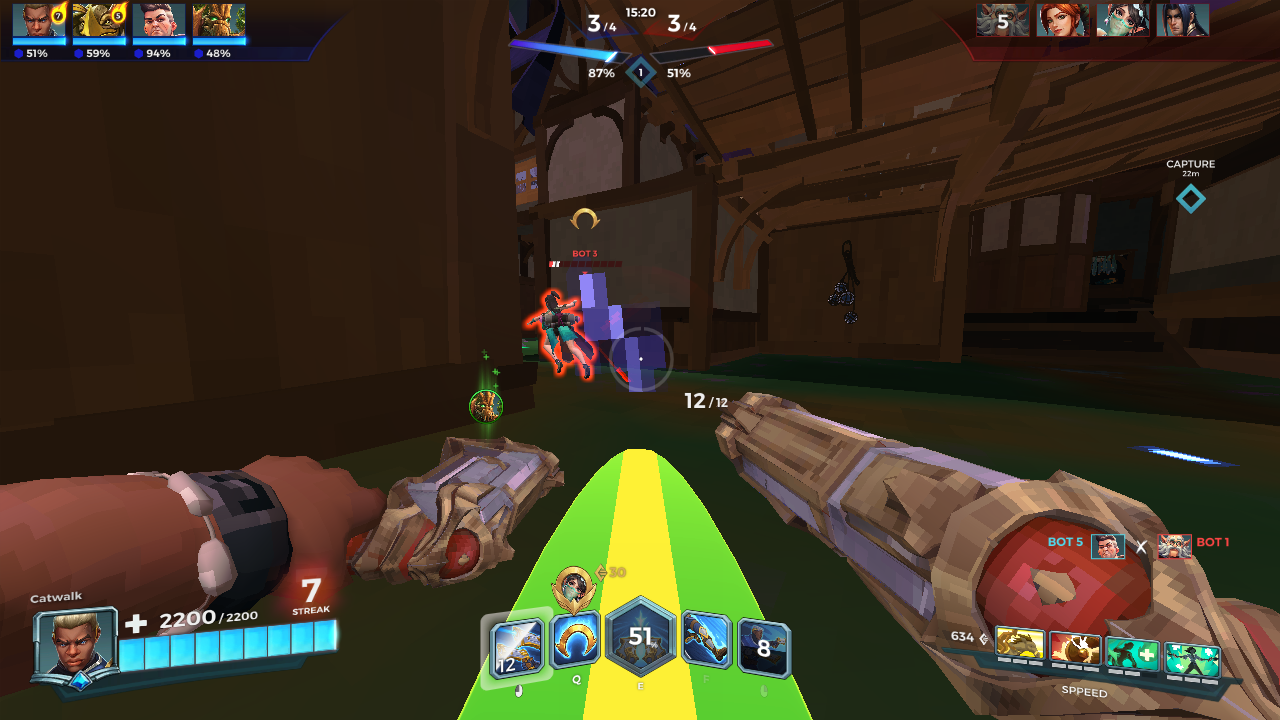model: (521, 276, 593, 387)
